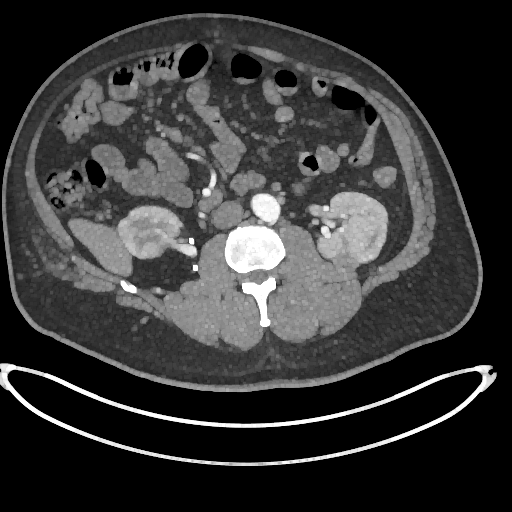Lesion: (329, 250, 362, 273)
